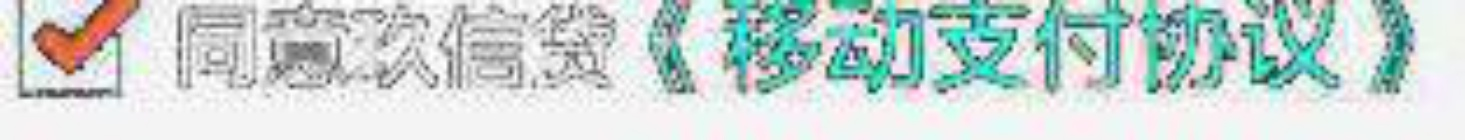CheckBox: (1, 1, 1464, 139)
